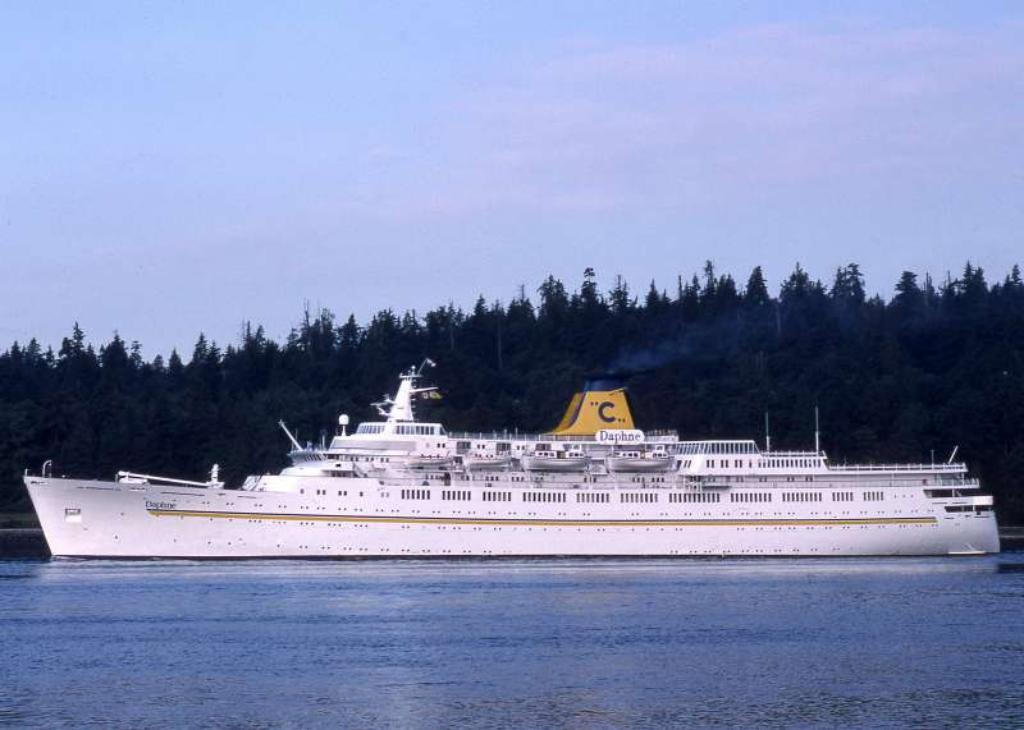PassengerShip: (14, 356, 1006, 568)
